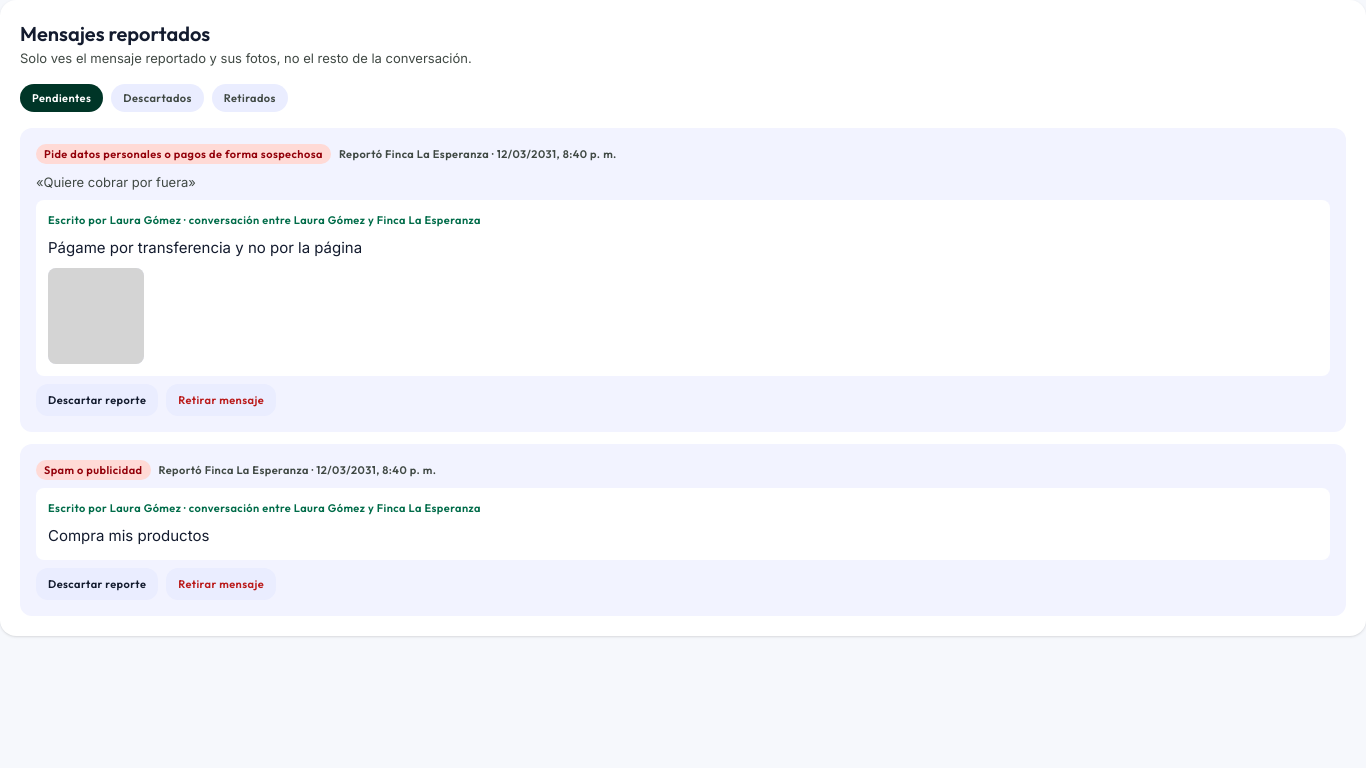
it: ReportesMensajesAdmin › descartar un reporte lo resuelve y recarga la lista
This screenshot has width=1366, height=768.
Check: the text "Compra mis productos" is shown, box [48,526,209,545]
Click the button "Descartar reporte" below "Compra mis productos". click: (97, 584)
box: [36,568,158,600]
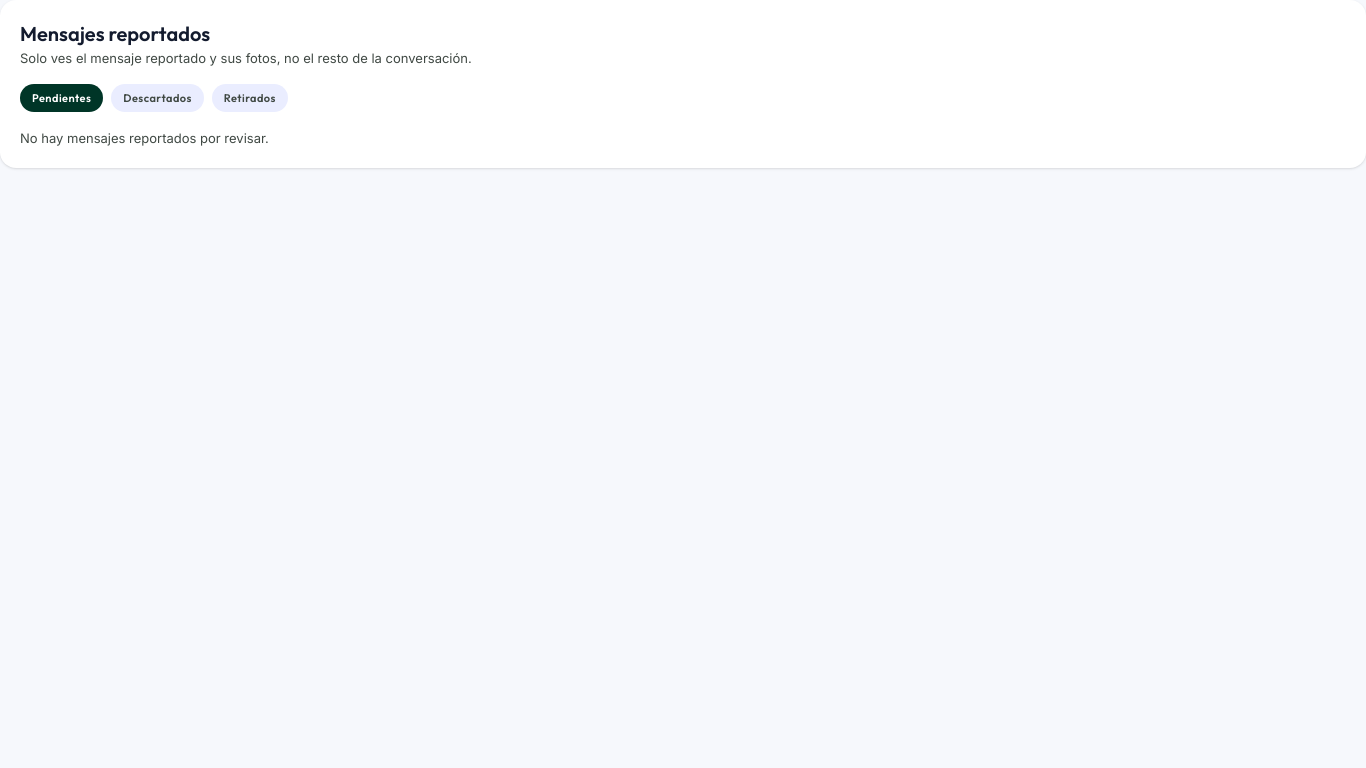
Check: the text "No hay mensajes reportados por revisar." is shown, box [20,130,269,146]
